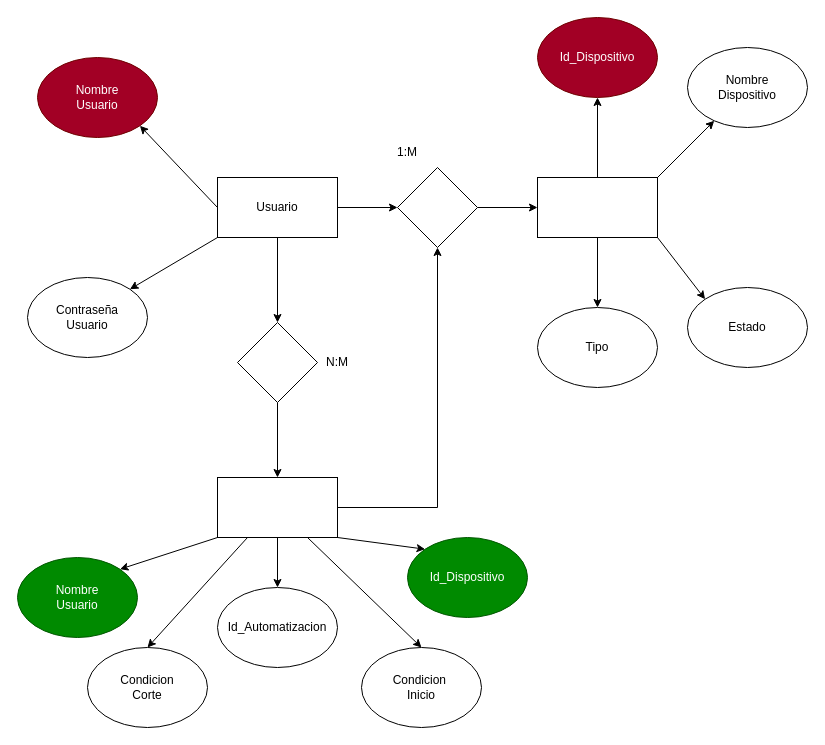
This 825x745 diagram has some shape labels left out. The shapes that lost their labels are listed below. From the top down, each one's centre as x and y in pixels, then its label:
At point (437, 207): "Gestiona".
At point (597, 207): "Dispositivo".
At point (277, 362): "Configura".
At point (277, 507): "Automatizacion".
